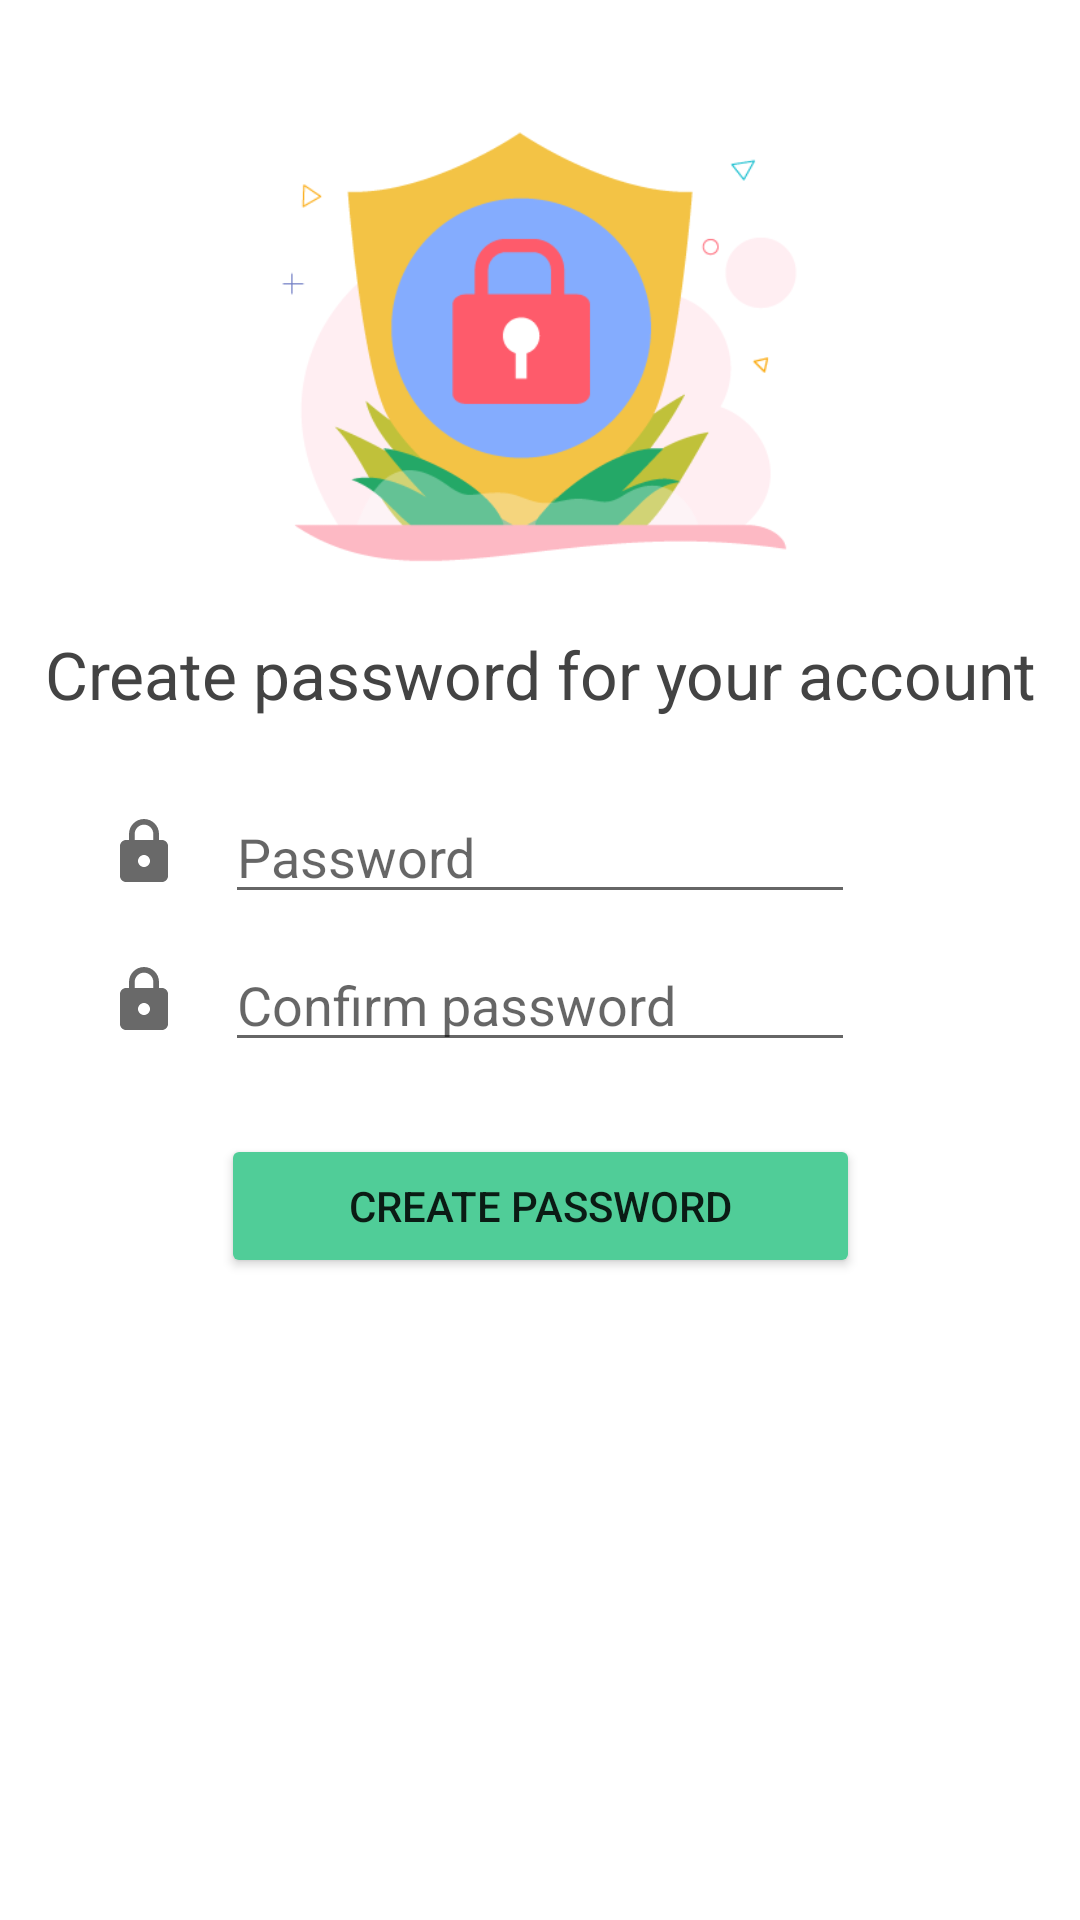

Icon bounding boxes for this 1080×1920 phone screenshot, format [x1, y1, x2, y2]:
lock: [120, 819, 168, 882], [120, 967, 168, 1030]
